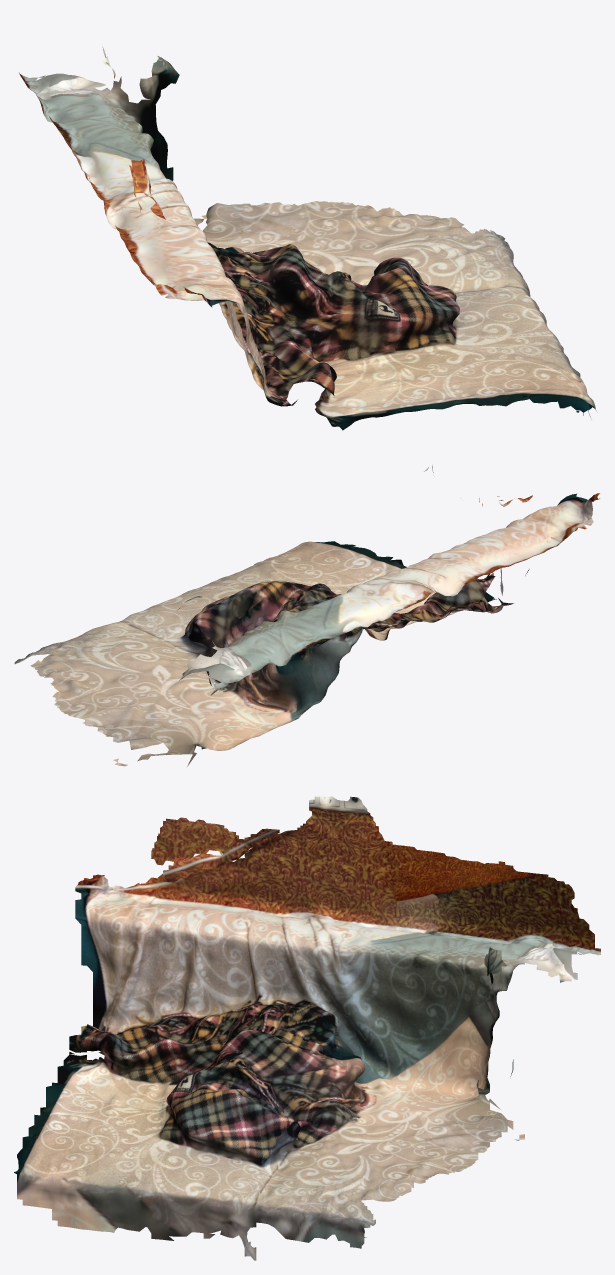
Rendered from 120765-33-tex.glb.
3 views of the same model, one above another, from view 1: azimuth 30°, elevation 25°; view 2: azimuth 150°, elevation 25°; view 3: azimuth 270°, elevation 25° (orthographic). The views are drawn at different scales.
Visible parts, largest first — view 1: Node; view 2: Node; view 3: Node.
Boxes of the visible parts, <box> form: Node: <box>19,46,596,430</box>; Node: <box>14,465,599,766</box>; Node: <box>14,796,600,1260</box>.
Bounding box in the file's own units: 1.6 × 1.13 × 1.96.
Materials: 1 (1 with a texture image).
